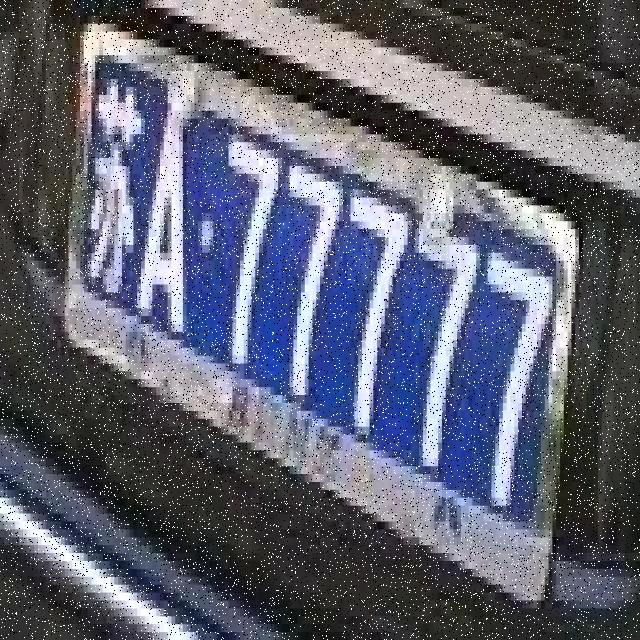licenseplate: (52, 5, 580, 611)
